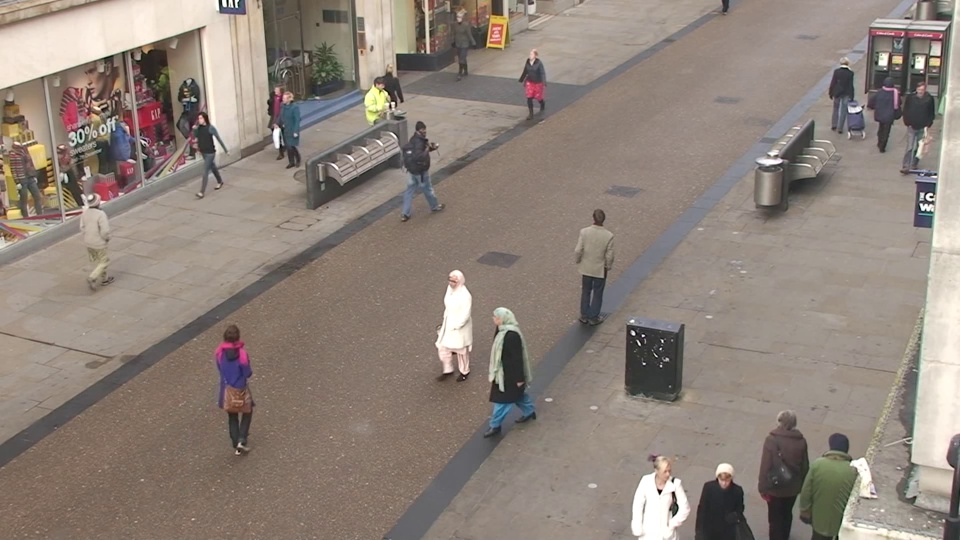pedestrian: (753, 397, 814, 540), (209, 315, 266, 460), (802, 419, 867, 540), (479, 300, 525, 444), (437, 262, 482, 397), (633, 443, 693, 540), (74, 188, 125, 300), (691, 449, 753, 540), (579, 204, 617, 325), (896, 79, 939, 170), (865, 76, 904, 165), (189, 108, 226, 199), (405, 118, 439, 215), (274, 86, 307, 172), (825, 54, 860, 135), (265, 80, 297, 164), (366, 75, 397, 159), (376, 60, 405, 139), (521, 46, 547, 122), (454, 8, 477, 73)
